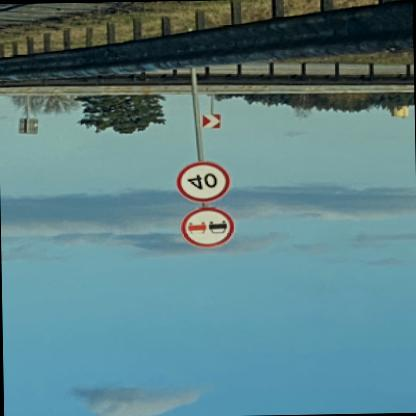speedlimit: (174, 161, 229, 202)
